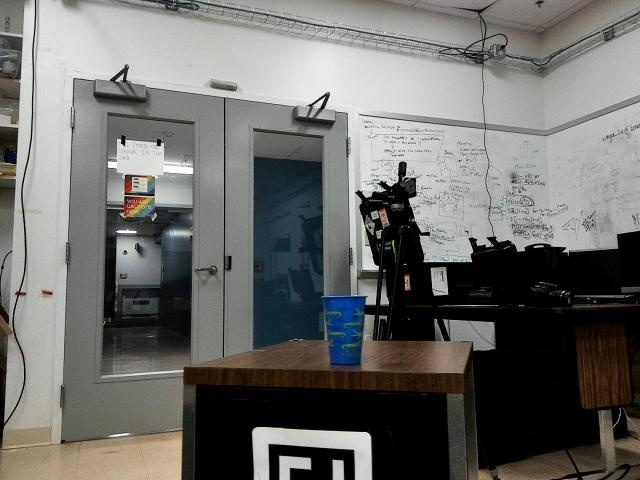water_cup: (315, 289, 374, 371)
